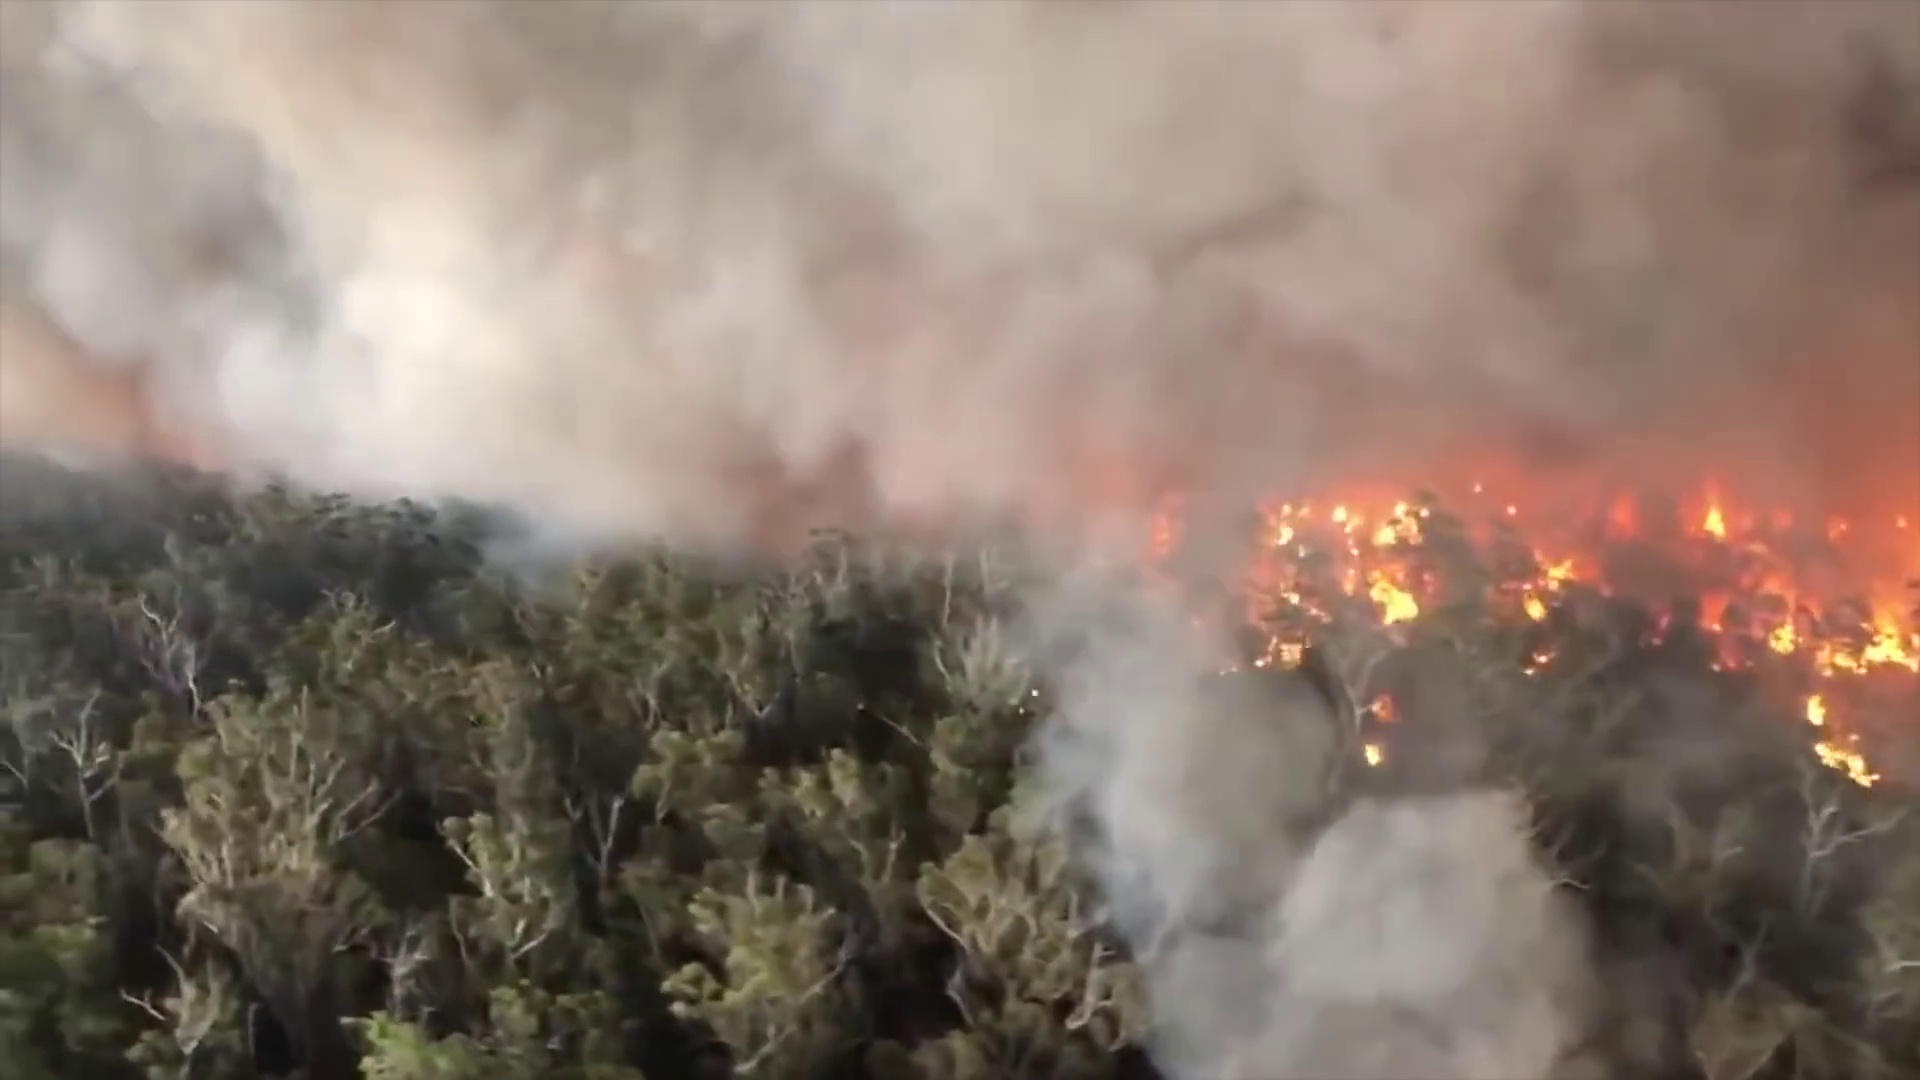fire: (1374, 496, 1420, 537), (1870, 630, 1920, 667), (1818, 740, 1866, 775), (1374, 587, 1416, 620), (1774, 626, 1800, 653), (1520, 593, 1548, 618), (1700, 502, 1724, 527), (1276, 520, 1298, 543), (1329, 505, 1352, 524)
